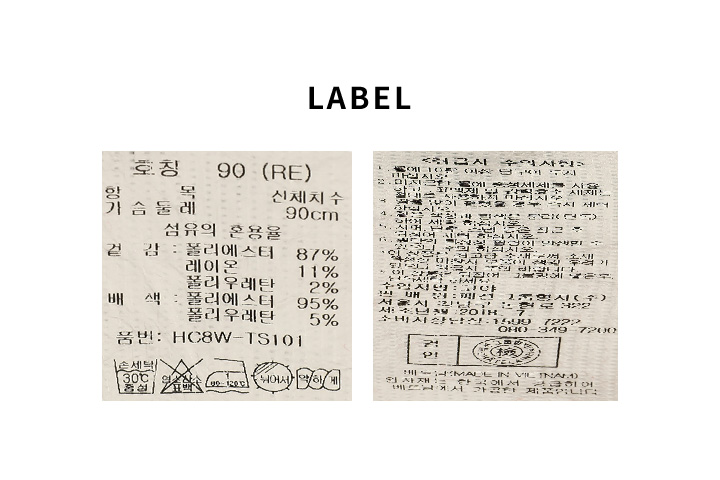KR_flat_dry_in_shade: (253, 356, 295, 396)
KR_gentle_wring: (294, 360, 343, 393)
KR_hand_wash_30_neutral: (113, 355, 158, 397)
KR_iron_low_temp_with_cloth: (205, 357, 251, 393)
KR_no_bleach: (160, 356, 204, 397)
